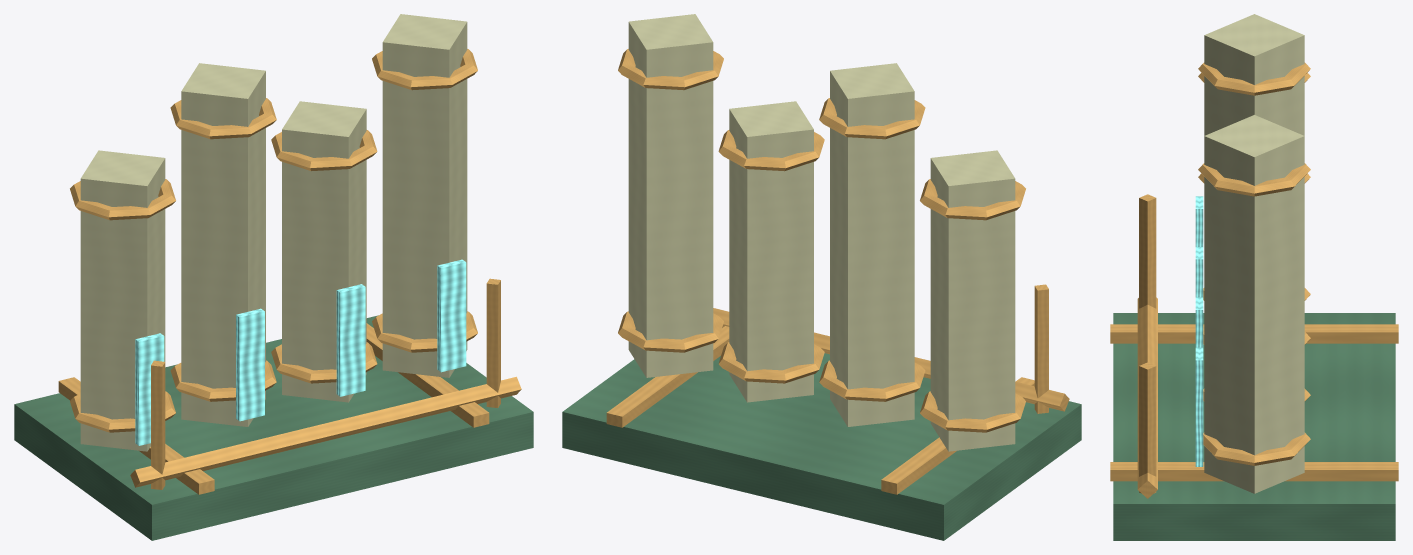
Rendered from atlas100-s002-a01.lod2.glb.
The picture shows the model from 3 angles, left to right: view 1: azimuth 30°, elevation 25°; view 2: azimuth 150°, elevation 25°; view 3: azimuth 270°, elevation 25°; orthographic projection. The views are drawn at different scales.
Parts seen in each view (by area): view 1: atlas100-s002-a01:part-000, atlas100-s002-a01:part-018, atlas100-s002-a01:part-008, atlas100-s002-a01:part-003, atlas100-s002-a01:part-013, atlas100-s002-a01:part-027, atlas100-s002-a01:part-017, atlas100-s002-a01:part-022, atlas100-s002-a01:part-012, atlas100-s002-a01:part-007, atlas100-s002-a01:part-023, atlas100-s002-a01:part-025 (+10 smaller); view 2: atlas100-s002-a01:part-000, atlas100-s002-a01:part-018, atlas100-s002-a01:part-008, atlas100-s002-a01:part-003, atlas100-s002-a01:part-013, atlas100-s002-a01:part-002, atlas100-s002-a01:part-023, atlas100-s002-a01:part-001, atlas100-s002-a01:part-010, atlas100-s002-a01:part-009, atlas100-s002-a01:part-005, atlas100-s002-a01:part-019 (+5 smaller); view 3: atlas100-s002-a01:part-000, atlas100-s002-a01:part-018, atlas100-s002-a01:part-008, atlas100-s002-a01:part-002, atlas100-s002-a01:part-001, atlas100-s002-a01:part-027, atlas100-s002-a01:part-025, atlas100-s002-a01:part-023, atlas100-s002-a01:part-020, atlas100-s002-a01:part-010, atlas100-s002-a01:part-019, atlas100-s002-a01:part-022 (+3 smaller).
Part boxes in pixels (left/top/right/bottom): atlas100-s002-a01:part-000: left=14, top=315, right=533, bottom=540; atlas100-s002-a01:part-018: left=382, top=14, right=467, bottom=377; atlas100-s002-a01:part-008: left=181, top=63, right=265, bottom=426; atlas100-s002-a01:part-003: left=80, top=150, right=165, bottom=451; atlas100-s002-a01:part-013: left=282, top=101, right=366, bottom=402; atlas100-s002-a01:part-027: left=130, top=376, right=521, bottom=487; atlas100-s002-a01:part-017: left=336, top=284, right=365, bottom=396; atlas100-s002-a01:part-022: left=437, top=259, right=466, bottom=372; atlas100-s002-a01:part-012: left=236, top=308, right=264, bottom=421; atlas100-s002-a01:part-007: left=135, top=333, right=164, bottom=445; atlas100-s002-a01:part-023: left=151, top=360, right=165, bottom=489; atlas100-s002-a01:part-025: left=486, top=278, right=500, bottom=407; atlas100-s002-a01:part-000: left=562, top=353, right=1081, bottom=540; atlas100-s002-a01:part-018: left=628, top=14, right=713, bottom=377; atlas100-s002-a01:part-008: left=830, top=63, right=914, bottom=426; atlas100-s002-a01:part-003: left=930, top=150, right=1015, bottom=451; atlas100-s002-a01:part-013: left=729, top=101, right=813, bottom=402; atlas100-s002-a01:part-002: left=606, top=326, right=729, bottom=427; atlas100-s002-a01:part-023: left=1034, top=284, right=1048, bottom=413; atlas100-s002-a01:part-001: left=881, top=377, right=1034, bottom=494; atlas100-s002-a01:part-010: left=819, top=98, right=925, bottom=139; atlas100-s002-a01:part-009: left=819, top=360, right=925, bottom=401; atlas100-s002-a01:part-005: left=920, top=179, right=1025, bottom=220; atlas100-s002-a01:part-019: left=618, top=311, right=723, bottom=352; atlas100-s002-a01:part-000: left=1113, top=313, right=1395, bottom=540; atlas100-s002-a01:part-018: left=1204, top=115, right=1304, bottom=493; atlas100-s002-a01:part-008: left=1204, top=14, right=1304, bottom=135; atlas100-s002-a01:part-002: left=1110, top=462, right=1398, bottom=481; atlas100-s002-a01:part-001: left=1110, top=324, right=1398, bottom=343; atlas100-s002-a01:part-027: left=1137, top=297, right=1157, bottom=498; atlas100-s002-a01:part-025: left=1139, top=362, right=1156, bottom=493; atlas100-s002-a01:part-023: left=1139, top=194, right=1156, bottom=308; atlas100-s002-a01:part-020: left=1198, top=163, right=1310, bottom=196; atlas100-s002-a01:part-010: left=1198, top=62, right=1310, bottom=95; atlas100-s002-a01:part-019: left=1203, top=432, right=1310, bottom=465; atlas100-s002-a01:part-022: left=1195, top=347, right=1203, bottom=466.
Size of the model in its own units: 3 by 2.71 by 1.84.
4 materials, 4 textured.
